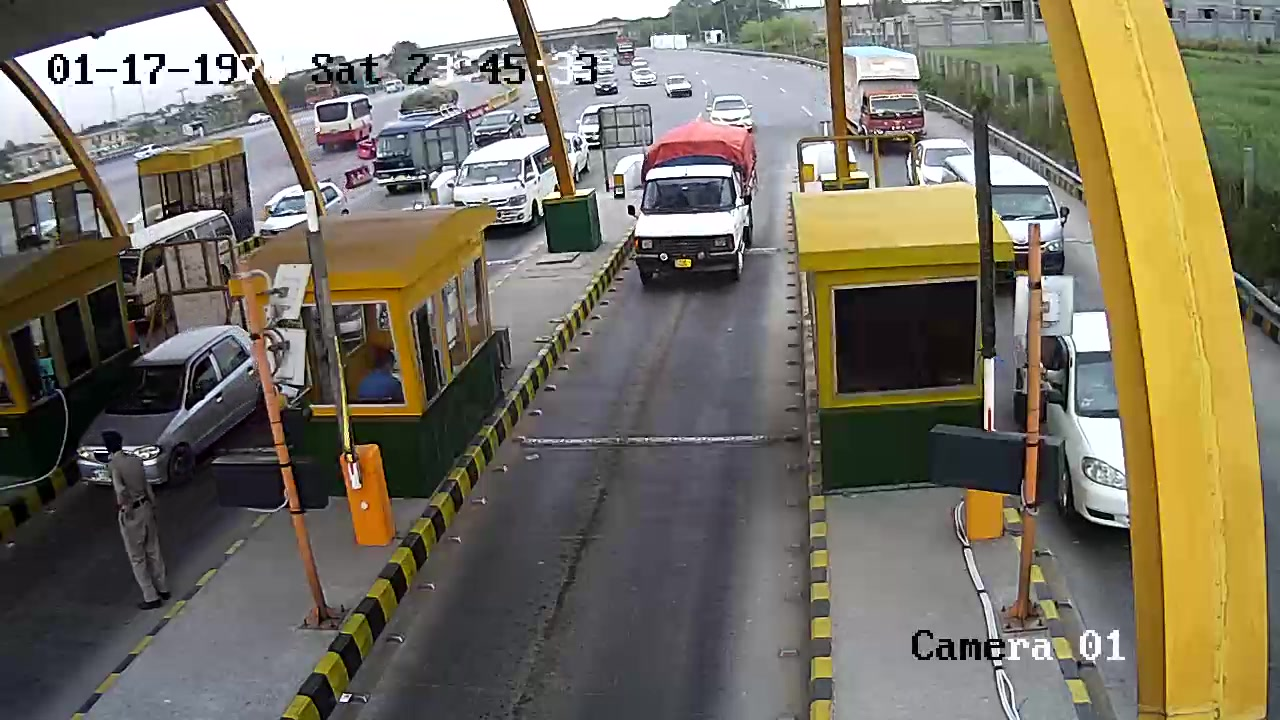F2: (629, 114, 761, 292)
